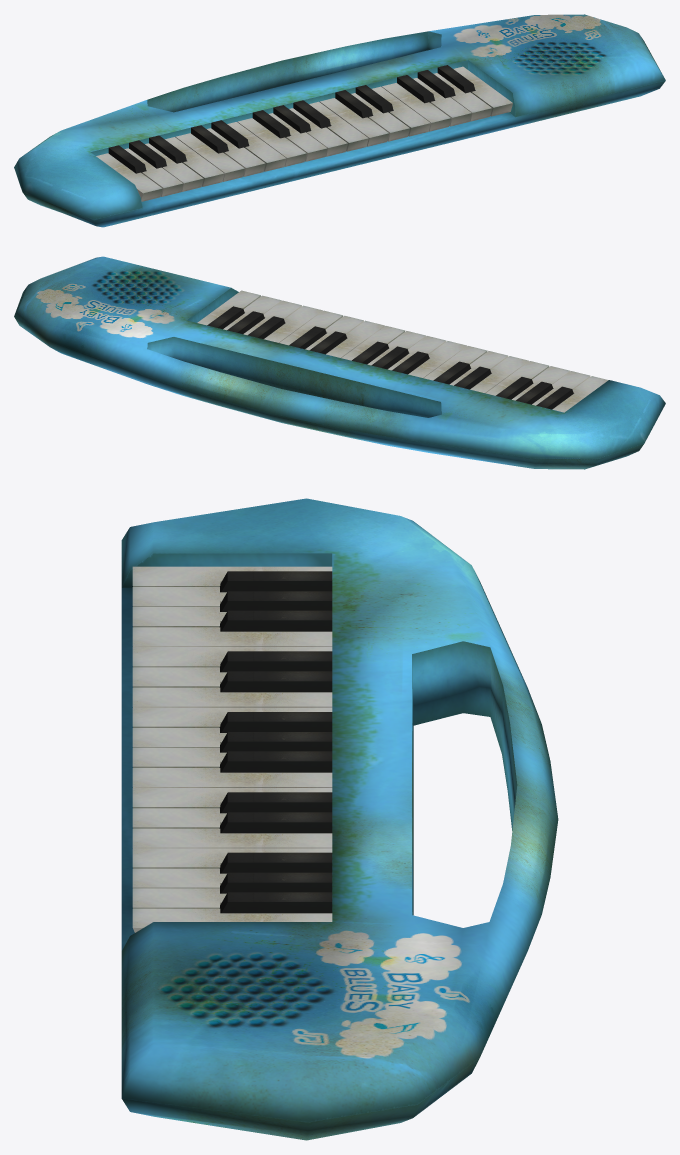
The model's file is Casio.fbx.
3 renders of one model, top to bottom at view 1: azimuth 30°, elevation 25°; view 2: azimuth 150°, elevation 25°; view 3: azimuth 270°, elevation 25°, orthographic. The views are drawn at different scales.
Visible parts, largest first — view 1: casio, 20, 8, 13, 25, 19, 7, 32, 1, 12, 24, 10 (+20 smaller); view 2: casio, 20, 8, 25, 13, 19, 32, 1, 7, 12, 24, 22 (+20 smaller); view 3: casio, 12, 24, 7, 19, 1, 25, 13, 8, 20, 18, 31 (+20 smaller).
Part boxes in pixels (x1,y1,x2,y2): casio: (14,14,665,227); 20: (320,98,388,146); 8: (175,133,244,181); 13: (237,118,306,166); 25: (381,83,450,131); 19: (309,101,368,151); 7: (165,137,224,186); 32: (453,66,512,116); 1: (96,153,162,201); 12: (227,122,286,171); 24: (372,86,430,136); 10: (207,128,265,176); casio: (14,256,665,469); 20: (326,320,384,357); 8: (470,356,528,393); 25: (264,305,322,342); 13: (408,341,466,378); 19: (341,326,405,360); 32: (197,290,260,325); 1: (552,376,608,412); 7: (486,361,549,395); 12: (424,346,487,380); 24: (280,310,342,345); 22: (305,315,363,350); casio: (121,498,558,1140); 12: (132,687,332,707); 24: (132,828,332,848); 7: (132,627,332,646); 19: (132,768,332,787); 1: (132,566,332,586); 25: (132,848,332,868); 13: (132,707,332,727); 8: (132,647,332,667); 20: (132,788,332,808); 18: (219,751,332,772); 31: (219,892,332,913).
Size of the model in its own units: 93.51 by 5.12 by 28.46.
